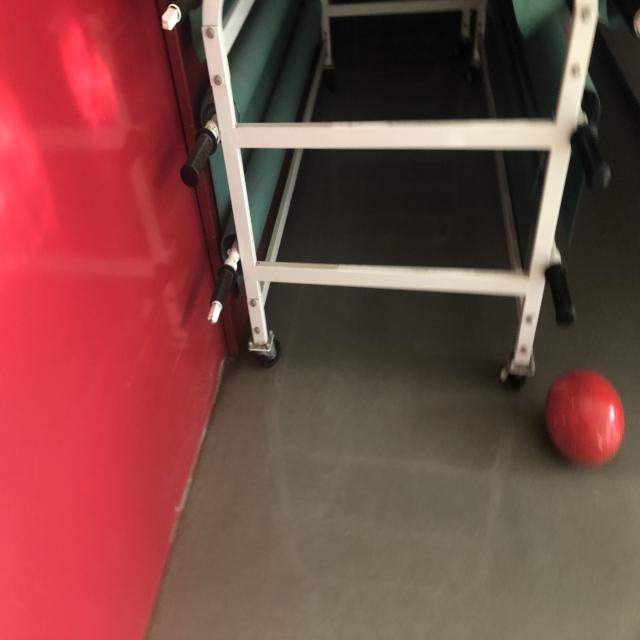red_ball: (546, 370, 626, 472)
